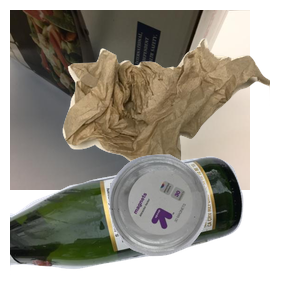cardboard: (10, 10, 250, 190)
glass: (10, 154, 246, 300)
plastic: (107, 152, 300, 300)
trash: (60, 36, 300, 198)
